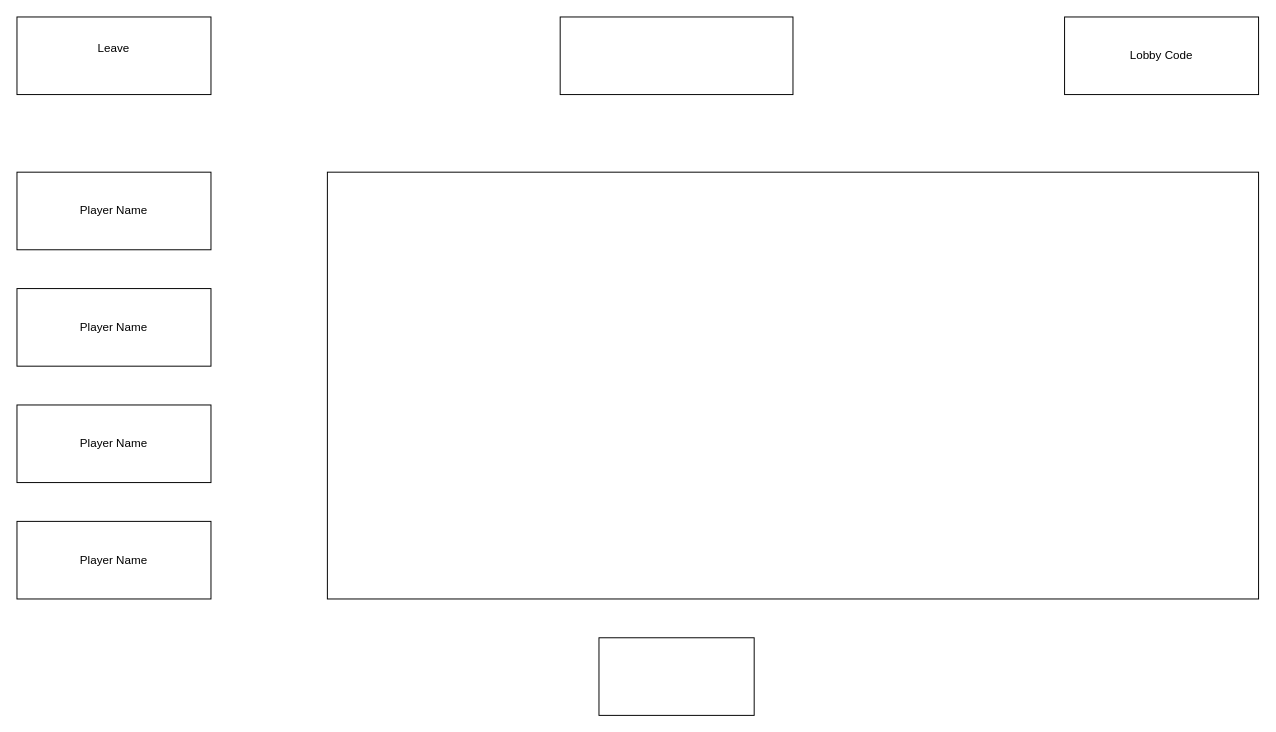
Some shapes in this 1276 by 732 pixel diagram are drawn without their labels. The shapes that lost their labels are listed below. From the top down, each one's box as (x1, y1, x2, y2) in pixels, then its label:
(559, 16, 793, 95): Lobby Name
(326, 171, 1259, 599): Live Backdrop space (Truck/Tornado)
(598, 637, 754, 715): Start Game
